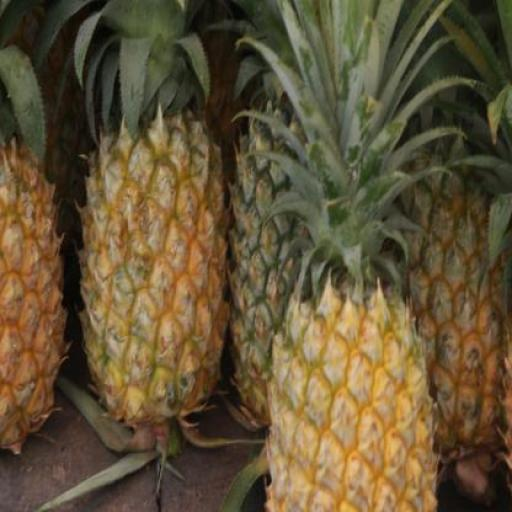------------------------------: (82, 124, 226, 431)
Pineapple - v8 v1: (262, 256, 428, 512), (0, 152, 69, 442)
